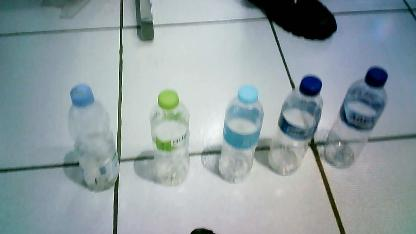Plastic Bottle: (326, 64, 388, 170), (68, 84, 121, 194), (269, 74, 323, 176), (219, 83, 264, 184), (150, 88, 190, 188)
